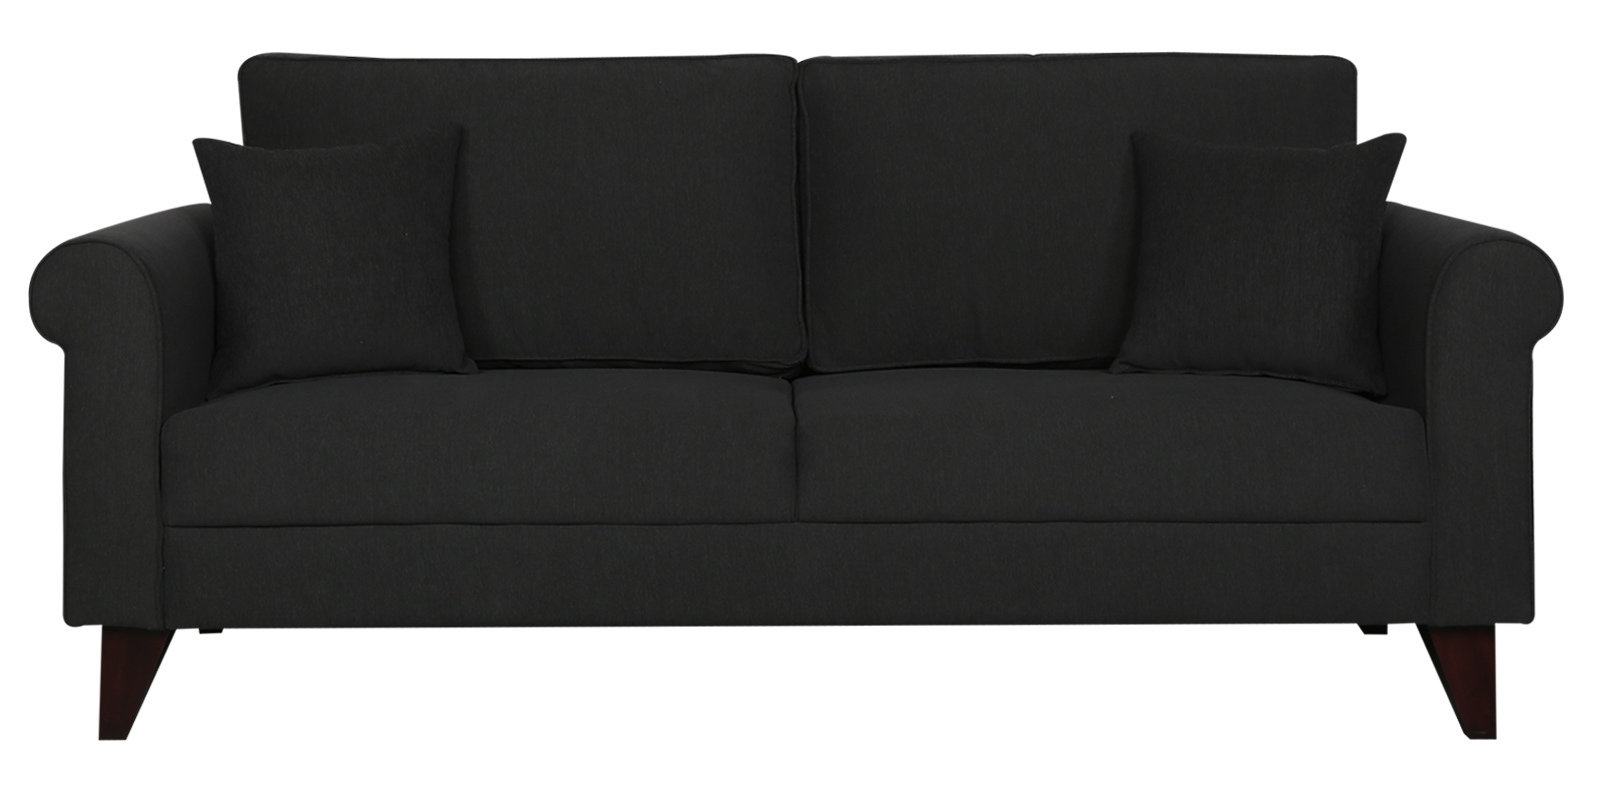Fuego Three Seater Sofa in Charcoal Grey Colour by CasaCraft: (12, 40, 1581, 790)
